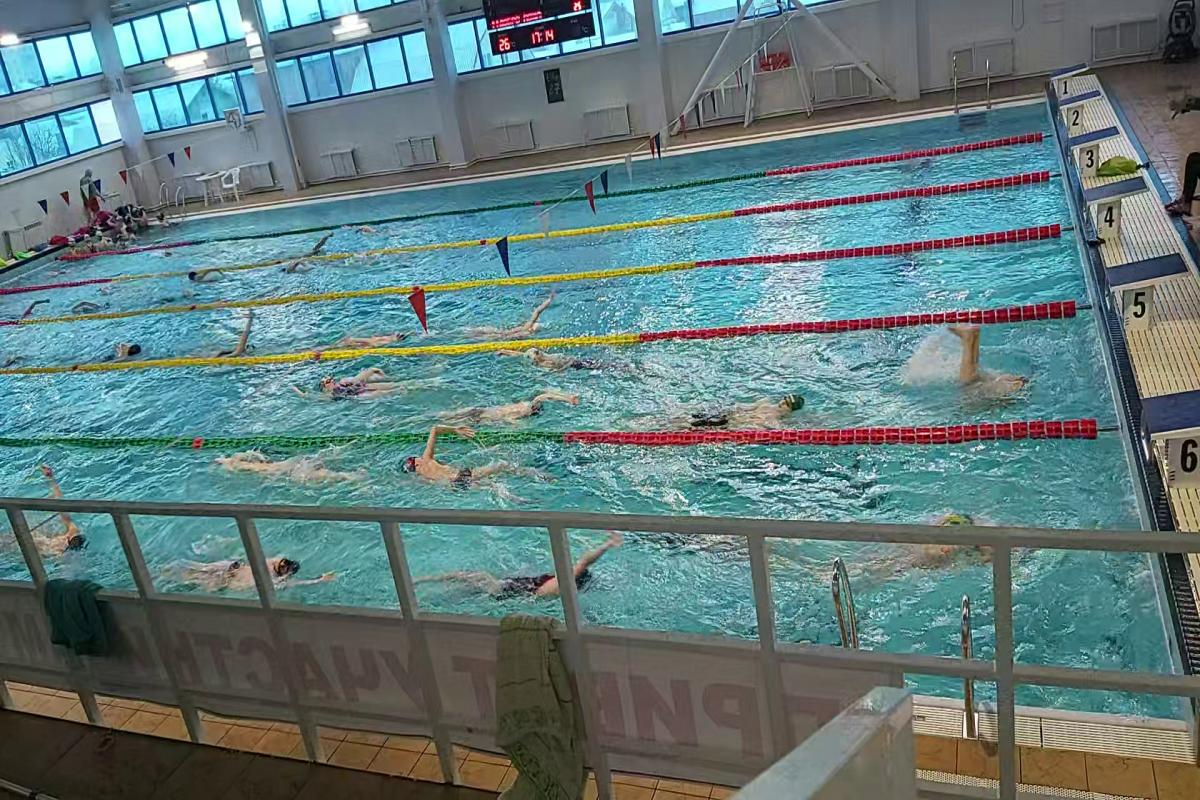swimmer: (811, 509, 1006, 590), (397, 429, 537, 504), (950, 324, 1039, 412), (159, 548, 341, 590), (672, 380, 811, 433), (3, 482, 92, 557), (215, 445, 363, 490), (424, 557, 556, 606), (296, 362, 411, 407), (506, 345, 631, 380), (445, 390, 583, 419), (462, 308, 554, 338), (331, 321, 424, 346), (205, 318, 260, 356), (96, 335, 148, 361), (184, 264, 234, 289), (278, 260, 313, 279), (300, 242, 332, 255)
